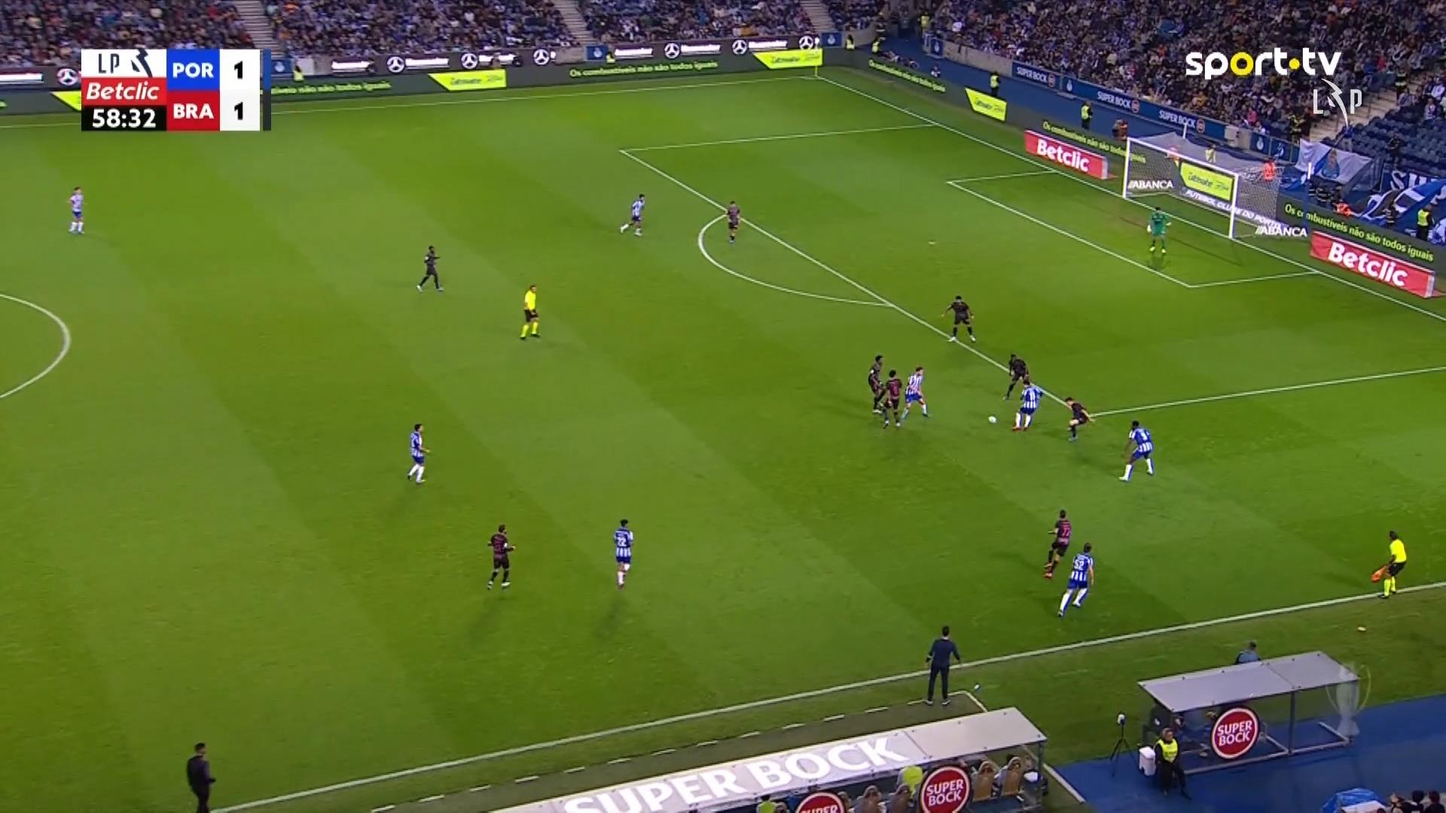ball: (987, 415, 996, 423)
goalkeeper: (1146, 206, 1169, 254)
player: (1057, 540, 1095, 617), (1118, 419, 1155, 481), (1042, 508, 1071, 579), (486, 523, 514, 589), (898, 365, 929, 422), (940, 294, 976, 343), (1011, 375, 1041, 431), (405, 422, 431, 483), (1062, 395, 1095, 442), (878, 368, 903, 428), (612, 518, 633, 589), (415, 245, 444, 292), (867, 353, 887, 415), (1004, 352, 1029, 400), (619, 193, 645, 236), (67, 186, 85, 233), (723, 199, 741, 244)
referee: (923, 625, 961, 706), (1371, 529, 1407, 598), (186, 741, 216, 811), (519, 283, 541, 340)
